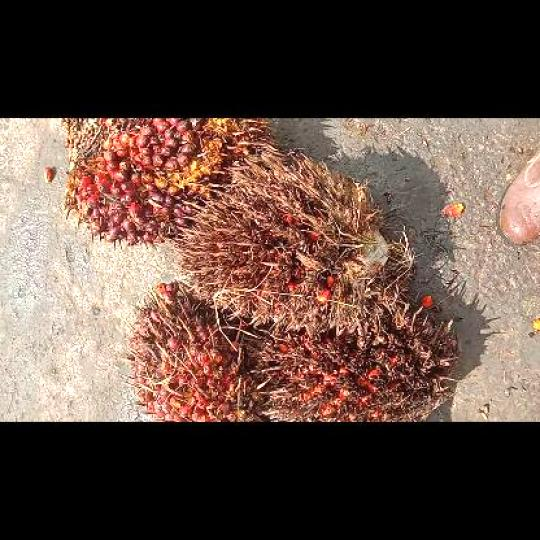masak: (61, 118, 279, 251), (120, 283, 268, 421)
terlalu masak: (168, 149, 408, 334), (251, 304, 458, 420)
